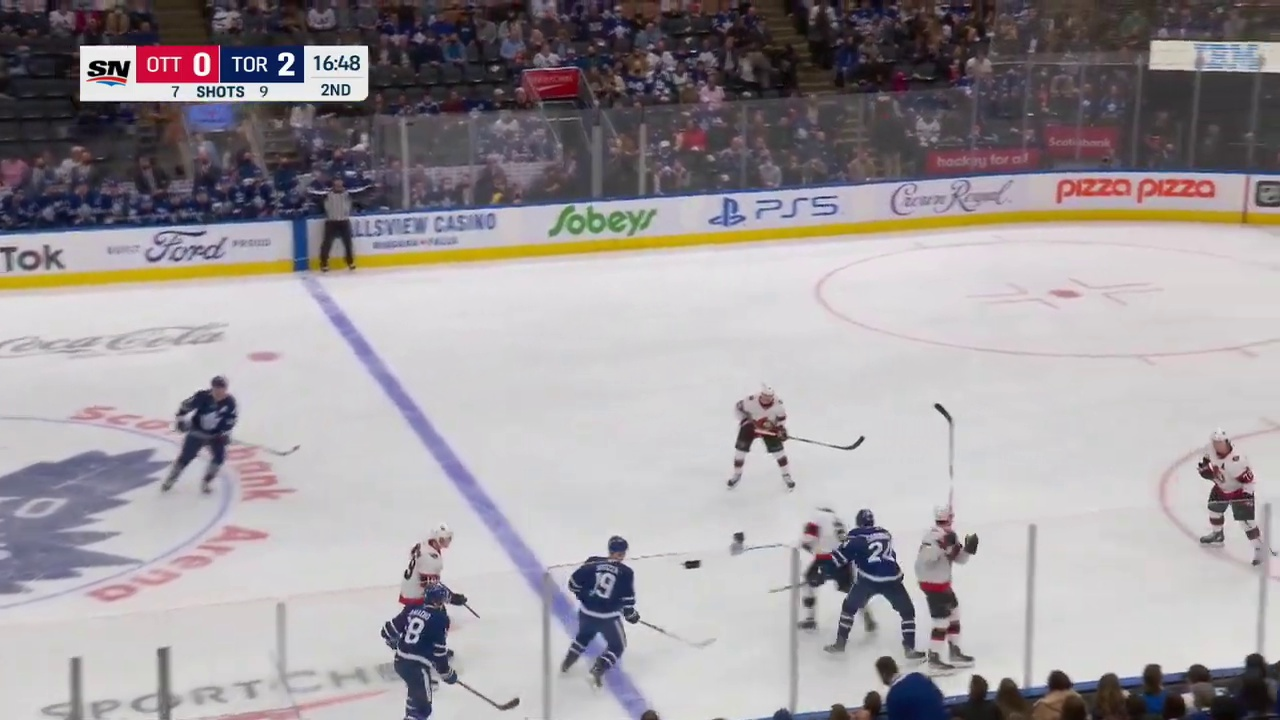hockeyplayer: (808, 508, 926, 663), (561, 535, 640, 693), (794, 500, 879, 636), (379, 585, 458, 720), (914, 504, 974, 678), (1196, 427, 1267, 572), (398, 524, 468, 661), (162, 376, 239, 497), (726, 384, 794, 492)
referee: (302, 176, 381, 273)
